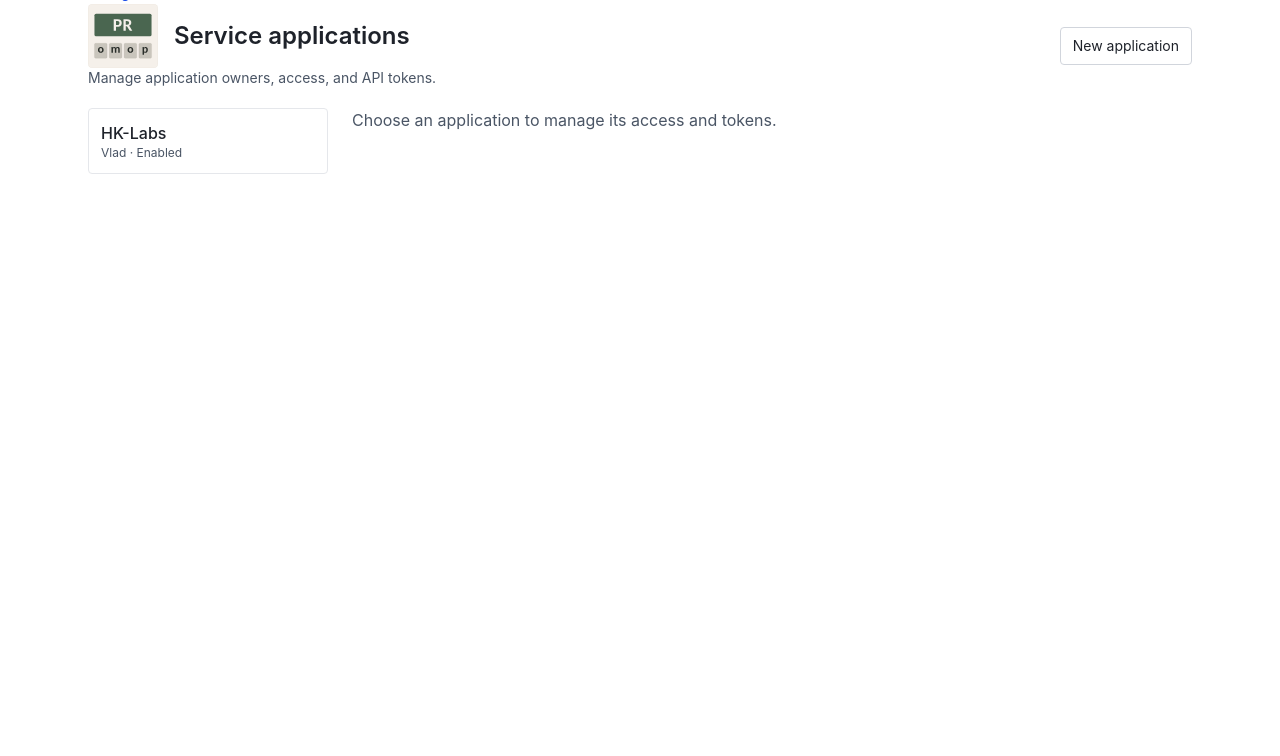
Service applications › shows the bound the server refused rather than a generic failure
Click the button "HK-Labs Vlad · Enabled" at {"x": 208, "y": 141}, box [88,108,328,174]
(page scrolled)
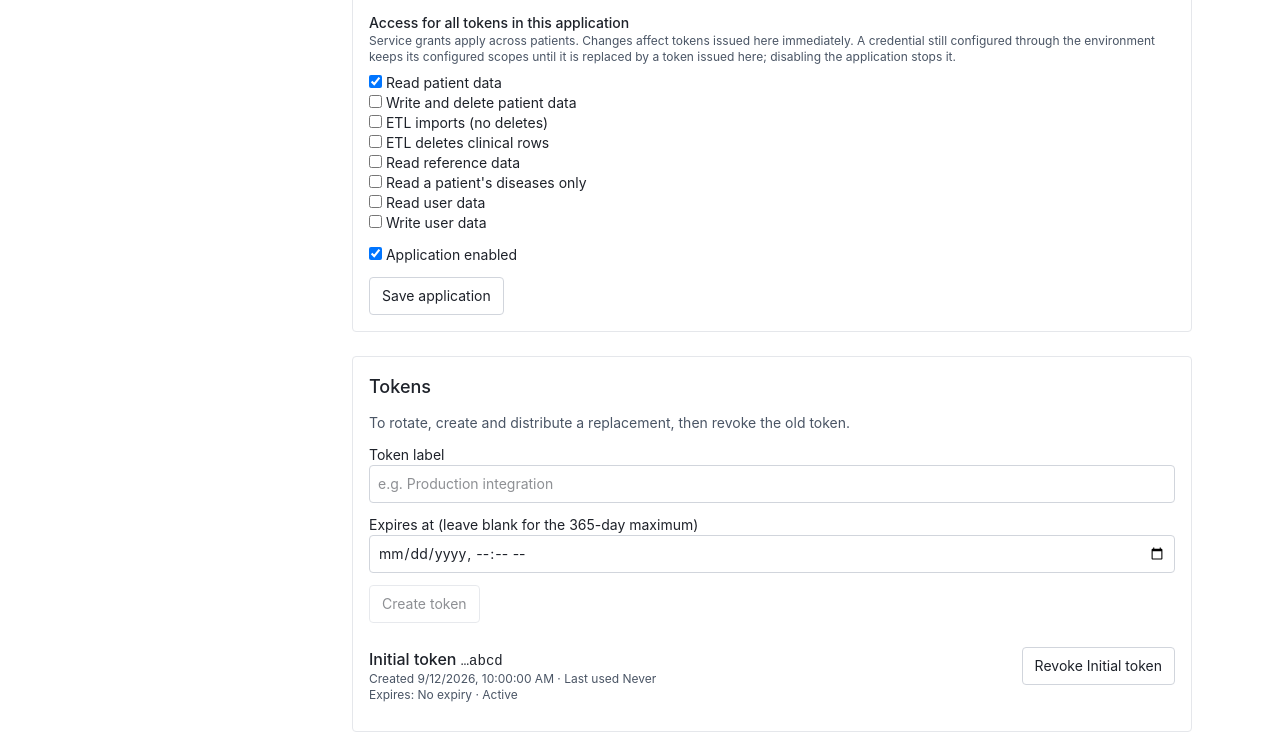
Type "Too long" into the field labelled "Token label" at {"x": 772, "y": 484}, box [369,465,1175,503]
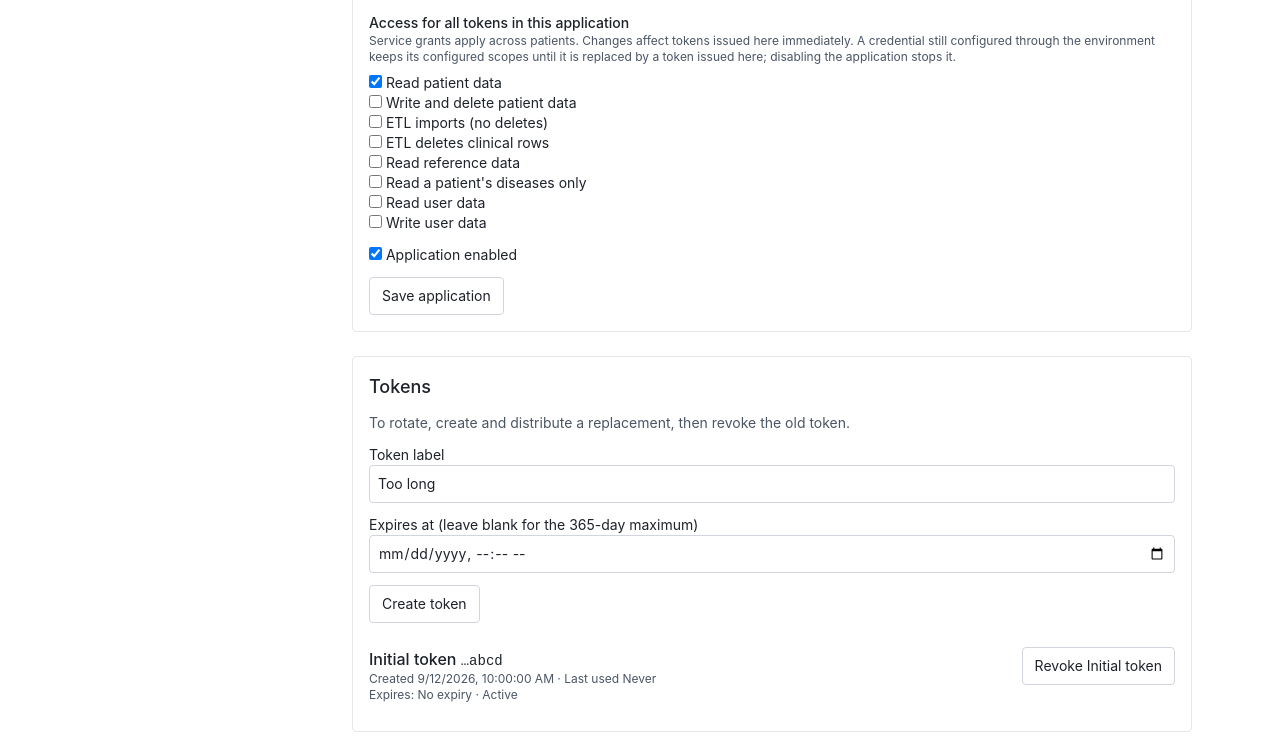
Click the button "Create token" at {"x": 424, "y": 604}, box [369,585,480,623]
(page scrolled)
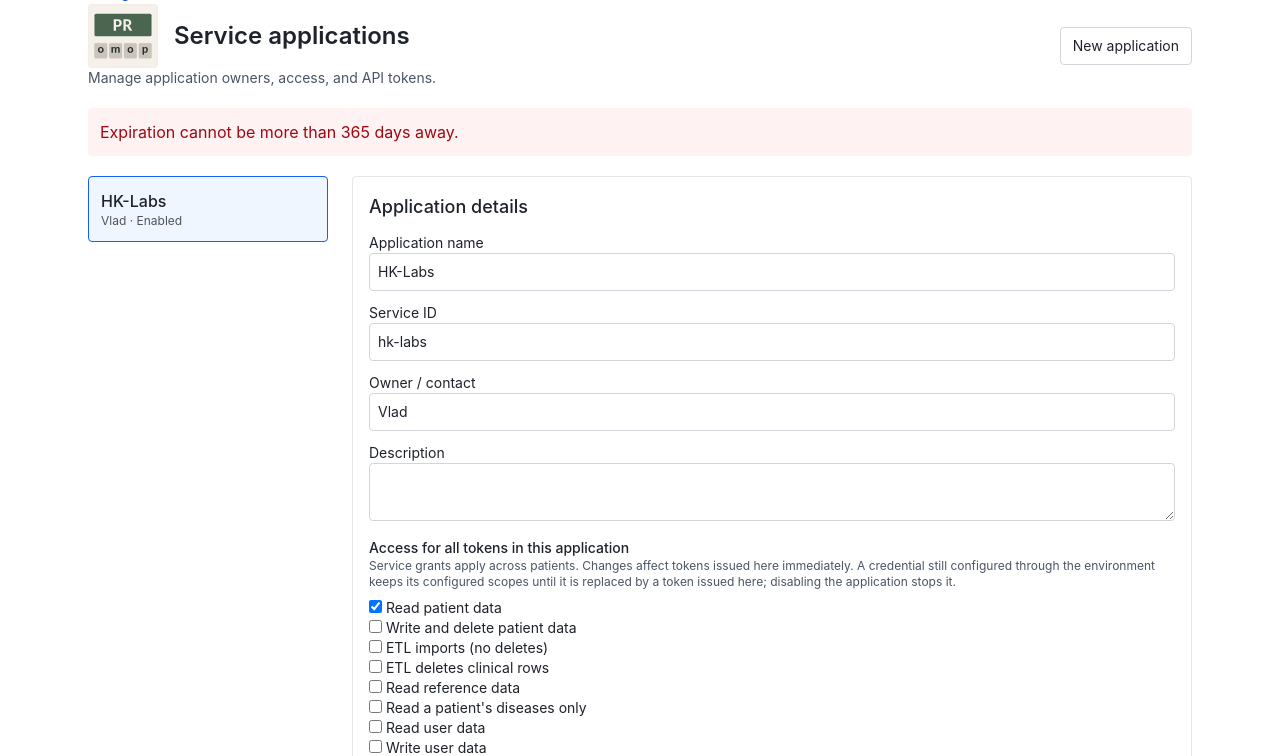
Check: the text "Expiration cannot be more than 365 days away." is shown, box [88,108,1192,156]
